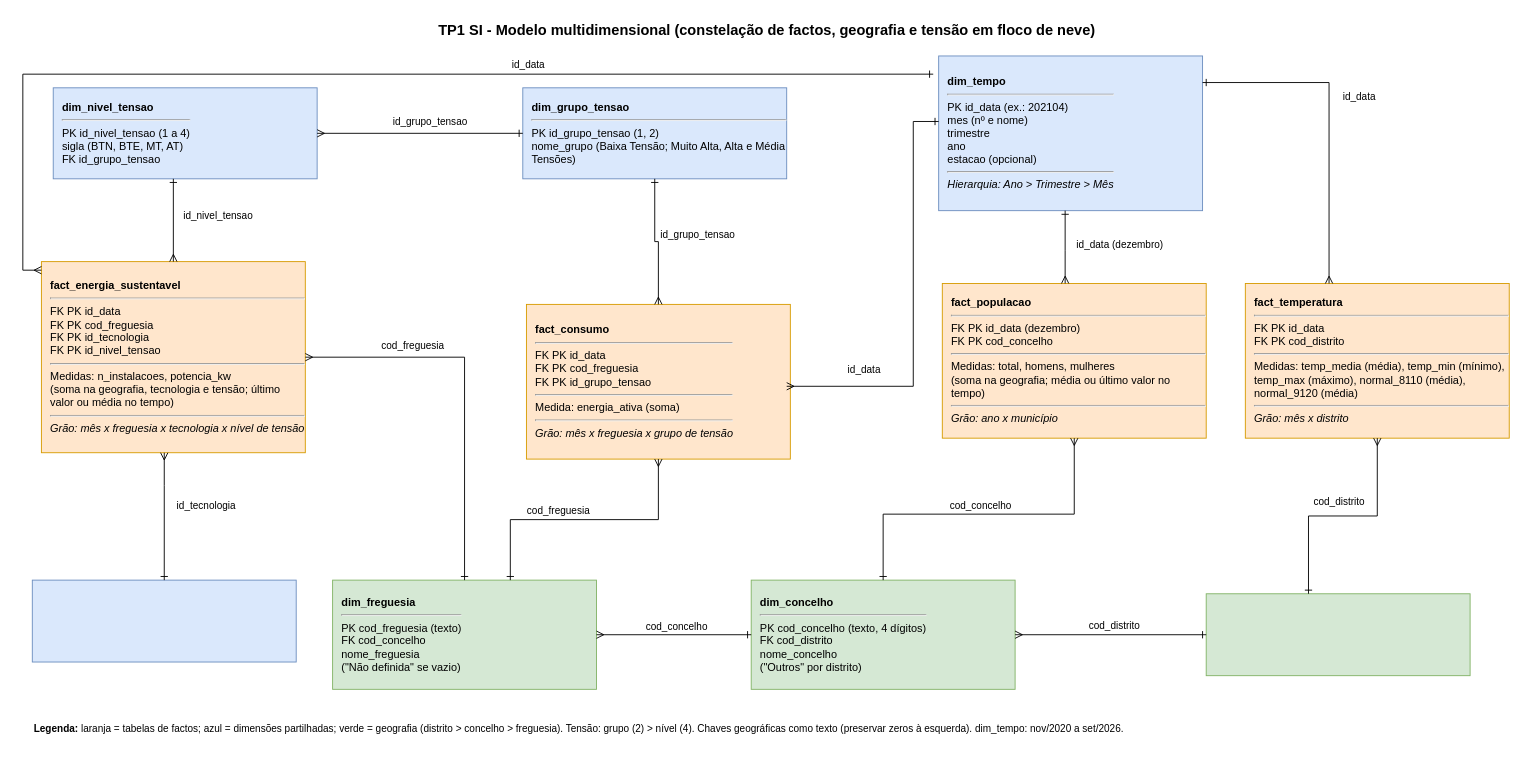
Some shapes in this 1526 by 768 pixel diagram are drawn without their labels. The box of each missing label's shape, as (x1, y1, x2, y2) in pixels:
dim_distrito PK cod_distrito (texto) nome_distrito: (1205, 593, 1470, 676)
dim_tecnologia PK id_tecnologia (1, 2) nome_tecnologia (Solar; Outras): (31, 579, 296, 662)
